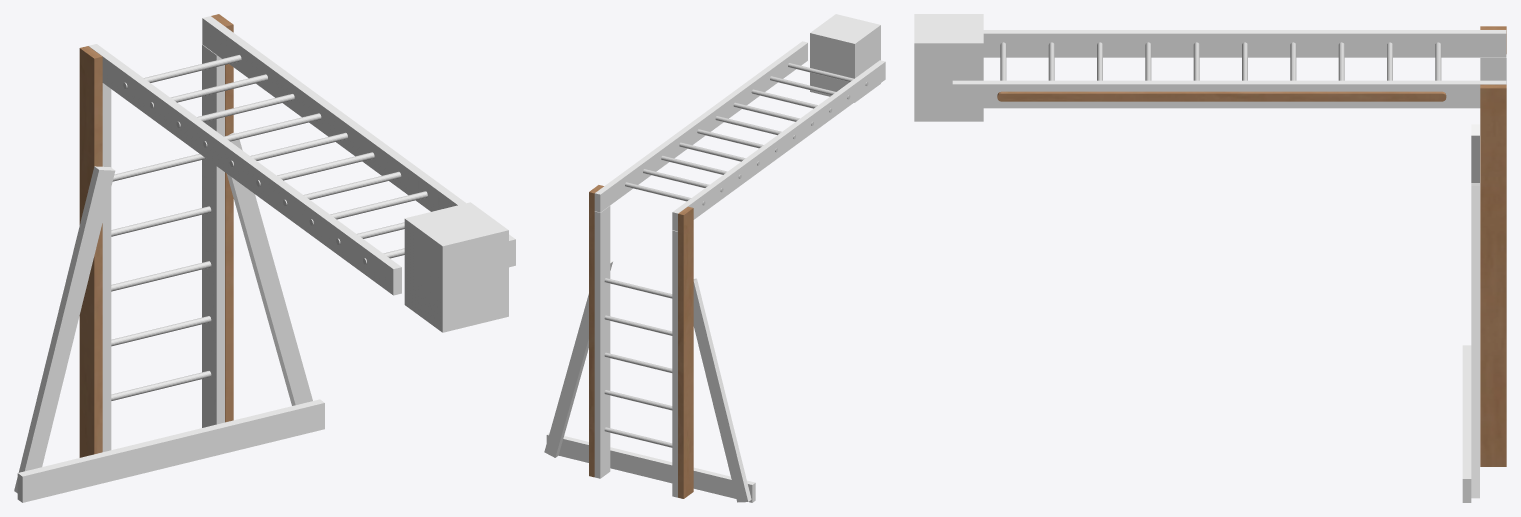
3 views of the same model, side by side, from view 1: azimuth 30°, elevation 25°; view 2: azimuth 150°, elevation 25°; view 3: azimuth 270°, elevation 25° (orthographic). The views are drawn at different scales.
Visible parts, largest first — view 1: Cylinder005_1, joint,0,8, Cylinder005_2, Cylinder005; view 2: Cylinder005_1, Cylinder005_2, Cylinder005, joint,0,8; view 3: Cylinder005_1, Cylinder005_2, joint,0,8, Cylinder005.
Boxes of the visible parts, x1,y1,x2,y2 form: Cylinder005_1: (14,16,515,502); joint,0,8: (404,202,508,332); Cylinder005_2: (79,14,233,457); Cylinder005: (111,55,427,400); Cylinder005_1: (544,41,885,502); Cylinder005_2: (589,185,693,498); Cylinder005: (604,63,868,447); joint,0,8: (810,14,880,102); Cylinder005_1: (952,30,1506,502); Cylinder005_2: (997,26,1506,466); joint,0,8: (914,14,983,121); Cylinder005: (1000,42,1441,80).
Bounding box in the file's own units: 1.83 × 2.6 × 3.42.
4 materials, 1 textured.
